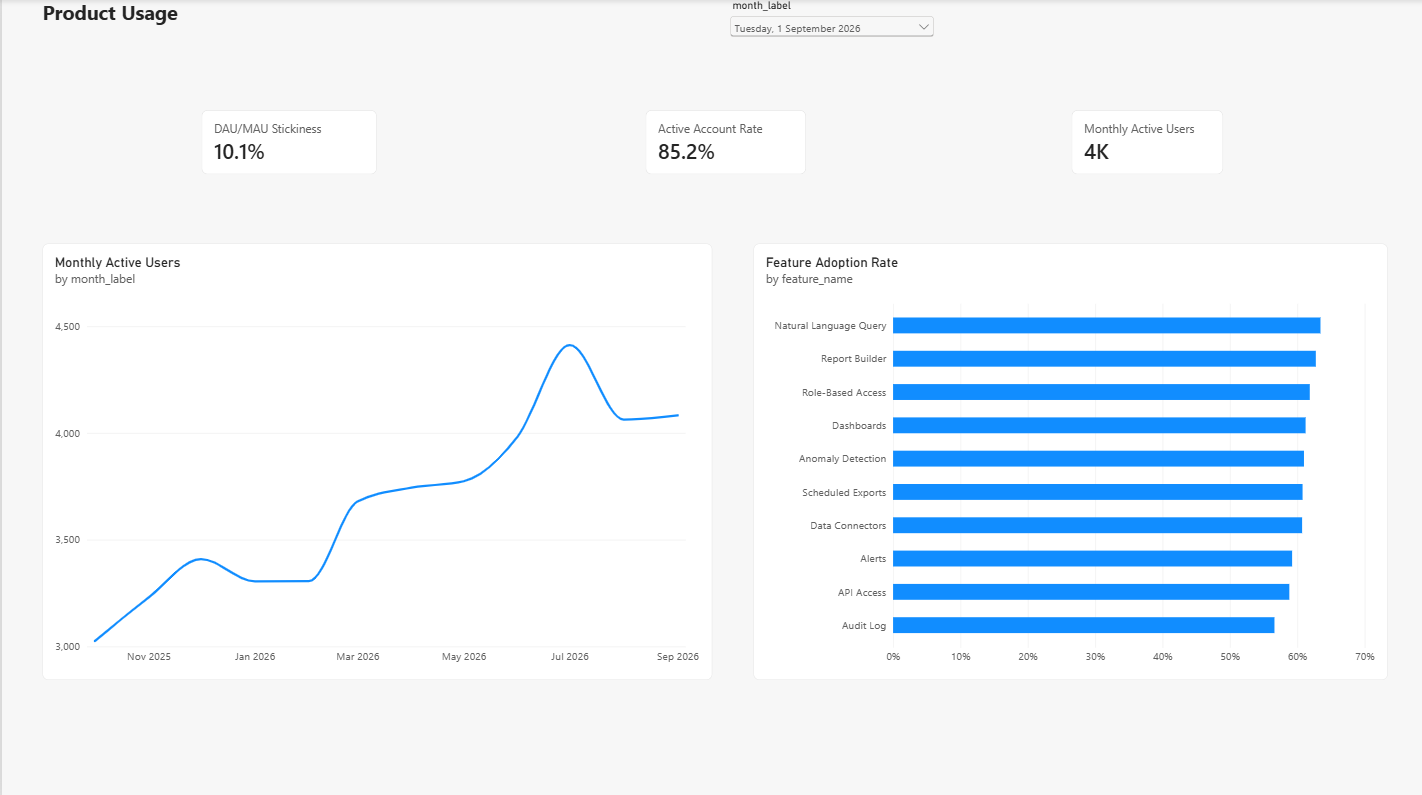

What the dashboard file says about the page in this screenshot:
{"tool":"powerbi","page":{"name":"Product Usage","canvas":[1920,1080],"ordinal":2},"visuals":[{"type":"cardVisual","fields":{"Data":["_Measures.Monthly Active Users"]},"box":[1445,150,205,87.5],"z":0},{"type":"cardVisual","fields":{"Data":["_Measures.Active Account Rate"]},"box":[870,150,217.5,87.5],"z":1000},{"type":"cardVisual","fields":{"Data":["_Measures.DAU/MAU Stickiness"]},"box":[270,150,237.5,87.5],"z":2000},{"type":"lineChart","fields":{"Category":["dim_date.month_label"],"Y":["_Measures.Monthly Active Users"]},"box":[55,330,905,590],"z":3000},{"type":"clusteredBarChart","fields":{"Category":["dim_features.feature_name"],"Y":["_Measures.Feature Adoption Rate"]},"box":[1015,330,857.5,590],"z":3001},{"type":"slicer","fields":{"Values":["dim_date.month_label"]},"box":[980,0,285,130],"z":3002},{"type":"textbox","box":[55,0,905,150],"z":3003}]}

Visuals, with their boxes in screenshot pixels (x1, y1, x2, y2), scaled from the page's 1920x1080 canvas onto the 1422x795 screenshot:
cardVisual - _Measures.Monthly Active Users: 1070:110:1222:175
cardVisual - _Measures.Active Account Rate: 644:110:805:175
cardVisual - _Measures.DAU/MAU Stickiness: 200:110:376:175
lineChart - dim_date.month_label x _Measures.Monthly Active Users: 41:243:711:677
clusteredBarChart - dim_features.feature_name x _Measures.Feature Adoption Rate: 752:243:1387:677
slicer - dim_date.month_label: 726:0:937:96
textbox: 41:0:711:110
